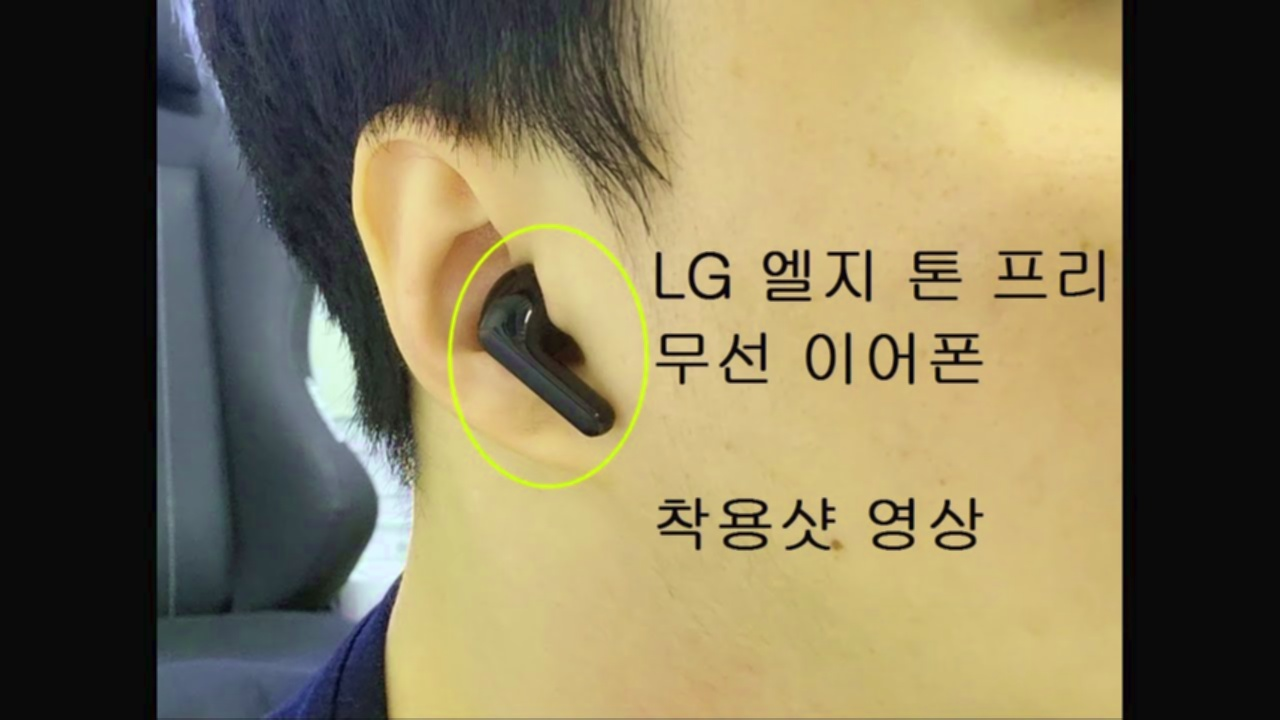earphone: (350, 104, 619, 473)
